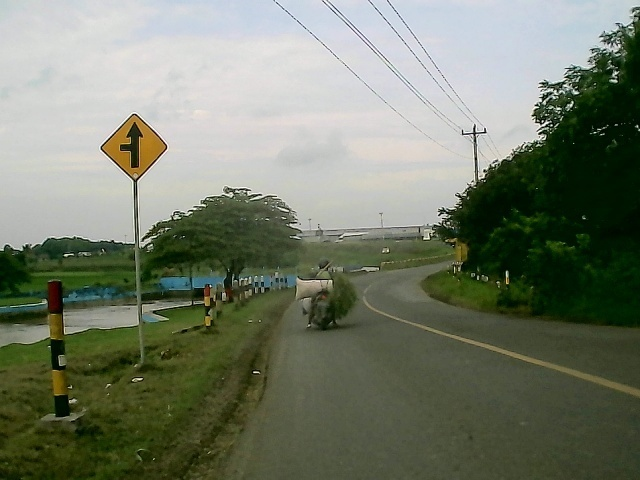Simpang kiri dengan prioritas: (95, 111, 173, 184)
